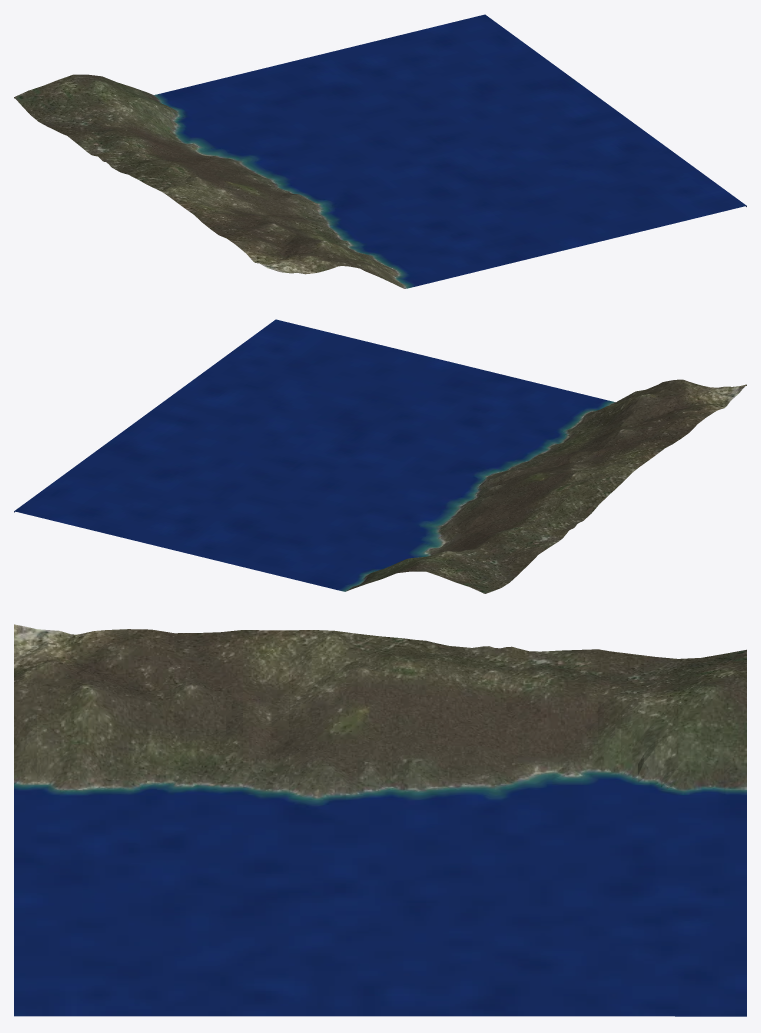
The picture shows the model from 3 angles, top to bottom: view 1: azimuth 30°, elevation 25°; view 2: azimuth 150°, elevation 25°; view 3: azimuth 270°, elevation 25°; orthographic projection. The views are drawn at different scales.
Size of the model in its own units: 2000 by 210 by 1925.
1 material, 1 textured.
